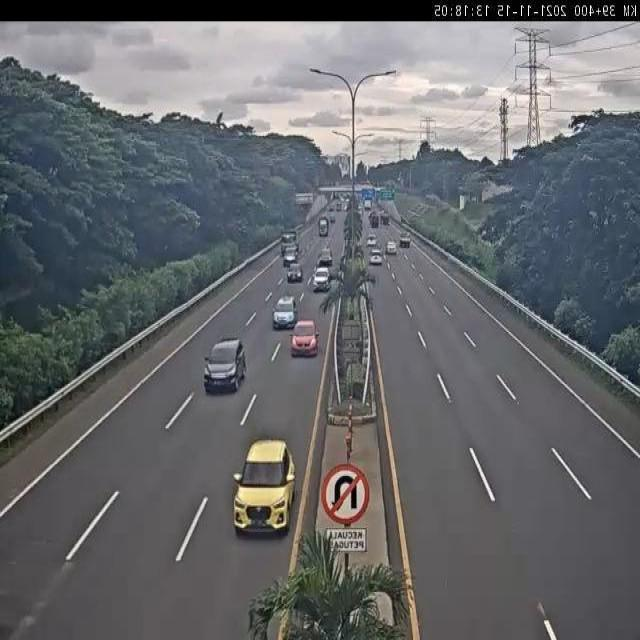Car: (228, 425, 304, 551), (202, 336, 246, 393), (290, 318, 320, 356), (272, 296, 298, 328), (286, 260, 304, 286), (314, 266, 332, 289), (318, 248, 333, 268), (369, 249, 383, 265), (400, 232, 411, 248), (386, 241, 398, 255), (367, 234, 377, 247), (330, 213, 336, 223), (329, 204, 335, 212), (336, 203, 342, 211)
